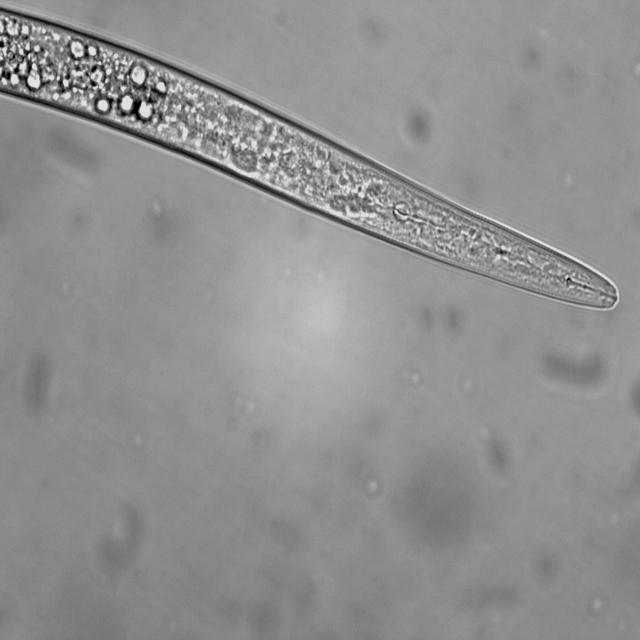Meloidogyne: (0, 0, 622, 314)
